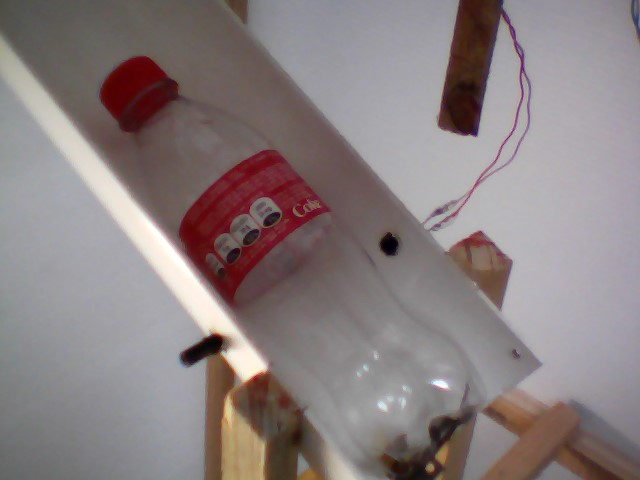plastico: (94, 44, 485, 480)
